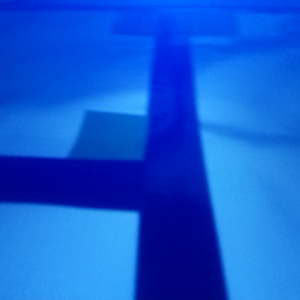bottom_left: (109, 1, 187, 37)
bottom_right: (157, 1, 236, 36)
top_left: (69, 111, 197, 209)
